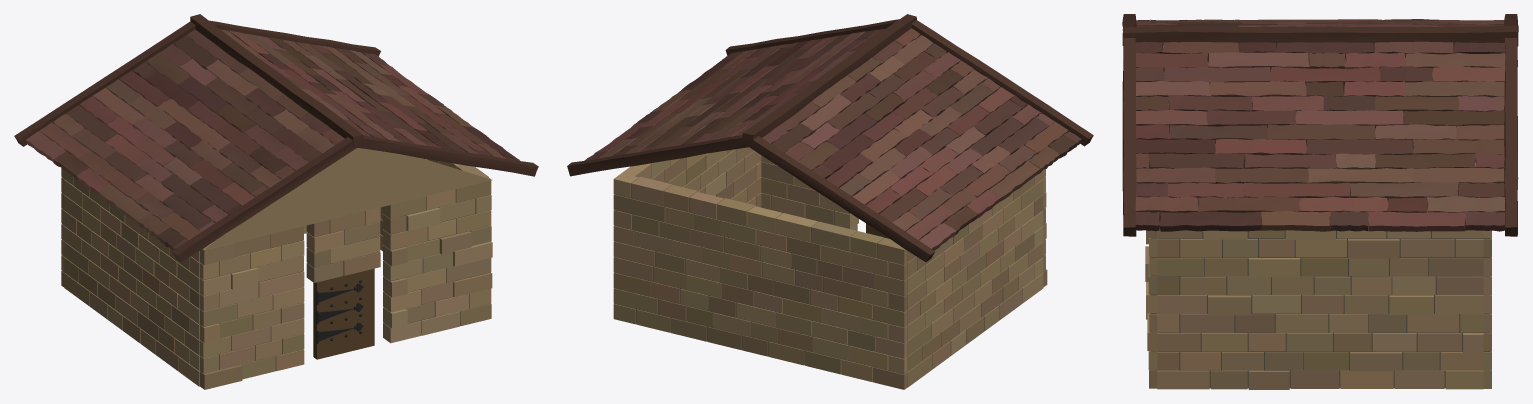
The model's file is stone_cottage_batched.glb.
3 renders of one model, left to right at view 1: azimuth 30°, elevation 25°; view 2: azimuth 150°, elevation 25°; view 3: azimuth 270°, elevation 25°, orthographic. The views are drawn at different scales.
Visible parts, largest first — view 1: stone_cottage; view 2: stone_cottage; view 3: stone_cottage.
Part boxes in pixels (bbox=[...]): stone_cottage: bbox=[14, 14, 538, 389]; stone_cottage: bbox=[567, 14, 1093, 389]; stone_cottage: bbox=[1122, 14, 1518, 389].
Size of the model in its own units: 6.5 by 3.9 by 5.09.
